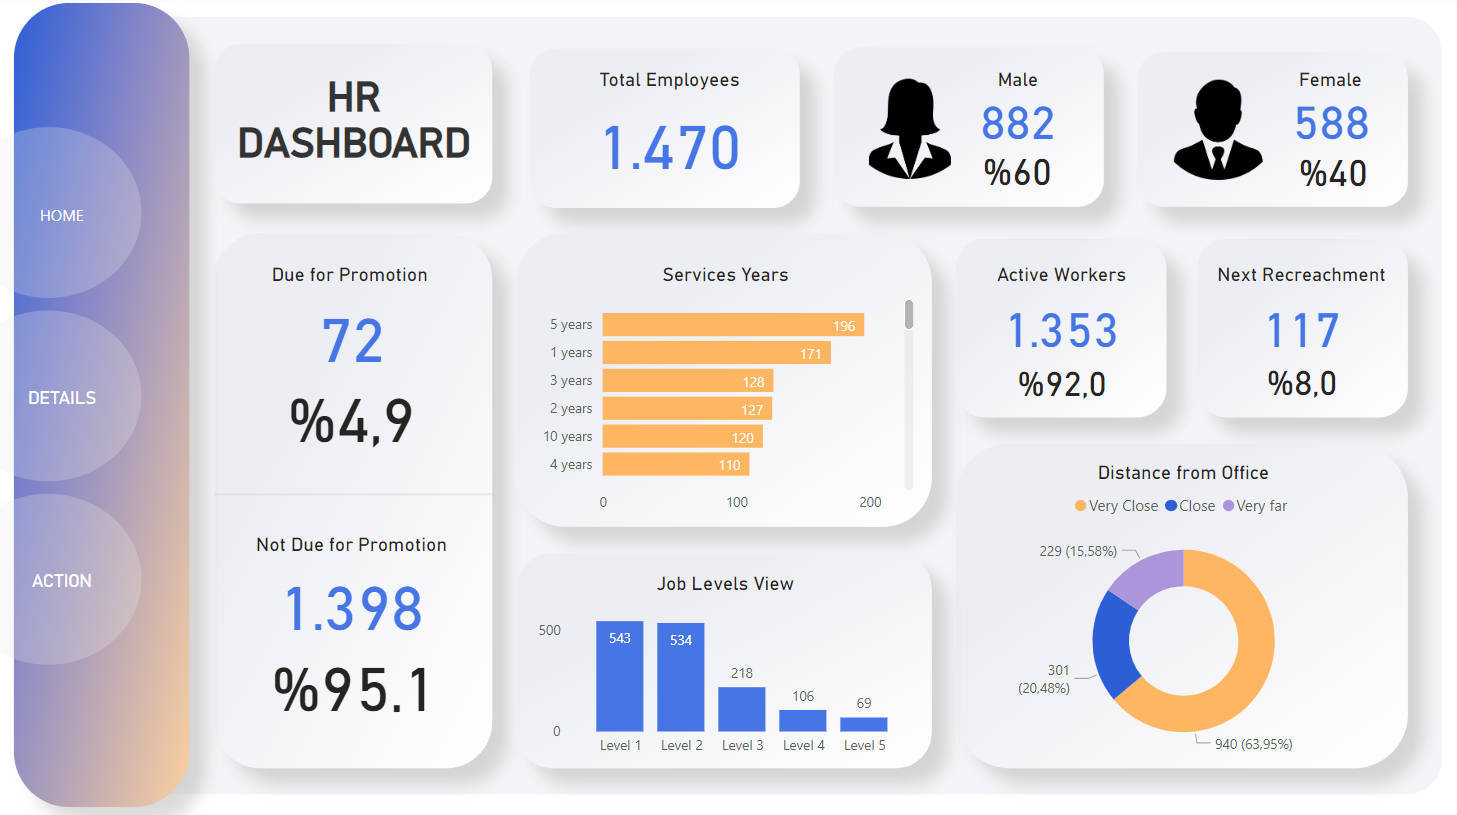

The dashboard page shown, as its layout file describes it:
{"tool":"powerbi","page":{"name":"HOME","canvas":[1280,720],"ordinal":0},"visuals":[{"type":"card","title":"Total Employees","fields":{"Values":["All Measures.Total Emp"]},"box":[510.1,62.3,157.2,106.2],"z":0},{"type":"card","title":"Male","fields":{"Values":["All Measures.Male"]},"box":[830.6,62.3,128.2,69.4],"z":1000},{"type":"card","title":"Female","fields":{"Values":["All Measures.Female"]},"box":[1102.8,62.3,132.6,69.4],"z":2000},{"type":"card","fields":{"Values":["All Measures.% Male"]},"box":[855.2,127.3,78.1,48.3],"z":3000},{"type":"card","fields":{"Values":["All Measures.% Female"]},"box":[1132.7,127.3,78.1,49.2],"z":4000},{"type":"card","title":"Not Due for Promotion","fields":{"Values":["All Measures.Not due"]},"box":[218.6,470.6,181.8,99.2],"z":5000},{"type":"card","title":"Due for Promotion","fields":{"Values":["All Measures.Due for Promotion"]},"box":[234.4,233.6,151,101.9],"z":6000},{"type":"card","fields":{"Values":["All Measures.% Due for Promotion"]},"box":[223,322.2,173,85.2],"z":7000},{"type":"card","fields":{"Values":["All Measures.% Not Due"]},"box":[219.5,569.9,183.5,63.2],"z":8000},{"type":"shape","box":[188.8,427.6,245.9,17.6],"z":9000},{"type":"clusteredBarChart","title":"Services Years","fields":{"Y":["All Measures.Total Emp"],"Category":["HR Analytics Data.ServiceYear"]},"box":[468,233.6,339.8,228.3],"z":10000},{"type":"columnChart","title":"Job Levels View","fields":{"Y":["All Measures.Total Emp"],"Category":["HR Analytics Data.Job Levels"]},"box":[468,504.9,339.8,170.3],"z":11000},{"type":"card","title":"Active Workers","fields":{"Values":["All Measures.On Service"]},"box":[852.6,233.6,160.7,88.7],"z":12000},{"type":"card","fields":{"Values":["All Measures.% On Service"]},"box":[864,310,138.7,55.3],"z":13000},{"type":"donutChart","title":"Distance from Office","fields":{"Category":["HR Analytics Data.Distance Status"],"Y":["All Measures.Total Emp"]},"box":[844.7,407.4,390.7,267.8],"z":14000},{"type":"pageNavigator","box":[6.1,116.8,98.3,470.6],"z":15000},{"type":"card","title":"Next Recreachment","fields":{"Values":["All Measures.Due for retrenchment"]},"box":[1060.7,233.6,166,88.7],"z":16000},{"type":"card","fields":{"Values":["All Measures.% Due for retirment"]},"box":[1089.7,313.5,108.9,47.4],"z":17000},{"type":"textbox","title":"HR DASHBOARD","box":[197.6,65.9,228.3,109.8],"z":18000},{"type":"image","box":[1030,62.3,91.3,96.6],"z":19000},{"type":"image","box":[756,65.9,96.6,93.1],"z":20000}]}

Visuals, with their boxes in screenshot pixels (x1, y1, x2, y2), scaled from the page's 1280x720 canvas onto the 1457x815 screenshot:
"Total Employees" card: Rect(581, 71, 760, 191)
"Male" card: Rect(945, 71, 1091, 149)
"Female" card: Rect(1255, 71, 1406, 149)
card - All Measures.% Male: Rect(973, 144, 1062, 199)
card - All Measures.% Female: Rect(1289, 144, 1378, 200)
"Not Due for Promotion" card: Rect(249, 533, 456, 645)
"Due for Promotion" card: Rect(267, 264, 439, 380)
card - All Measures.% Due for Promotion: Rect(254, 365, 451, 461)
card - All Measures.% Not Due: Rect(250, 645, 459, 717)
shape: Rect(215, 484, 495, 504)
"Services Years" clusteredBarChart: Rect(533, 264, 920, 523)
"Job Levels View" columnChart: Rect(533, 572, 920, 764)
"Active Workers" card: Rect(970, 264, 1153, 365)
card - All Measures.% On Service: Rect(983, 351, 1141, 413)
"Distance from Office" donutChart: Rect(962, 461, 1406, 764)
pageNavigator: Rect(7, 132, 119, 665)
"Next Recreachment" card: Rect(1207, 264, 1396, 365)
card - All Measures.% Due for retirment: Rect(1240, 355, 1364, 409)
"HR DASHBOARD" textbox: Rect(225, 75, 485, 199)
image: Rect(1172, 71, 1276, 180)
image: Rect(861, 75, 970, 180)
